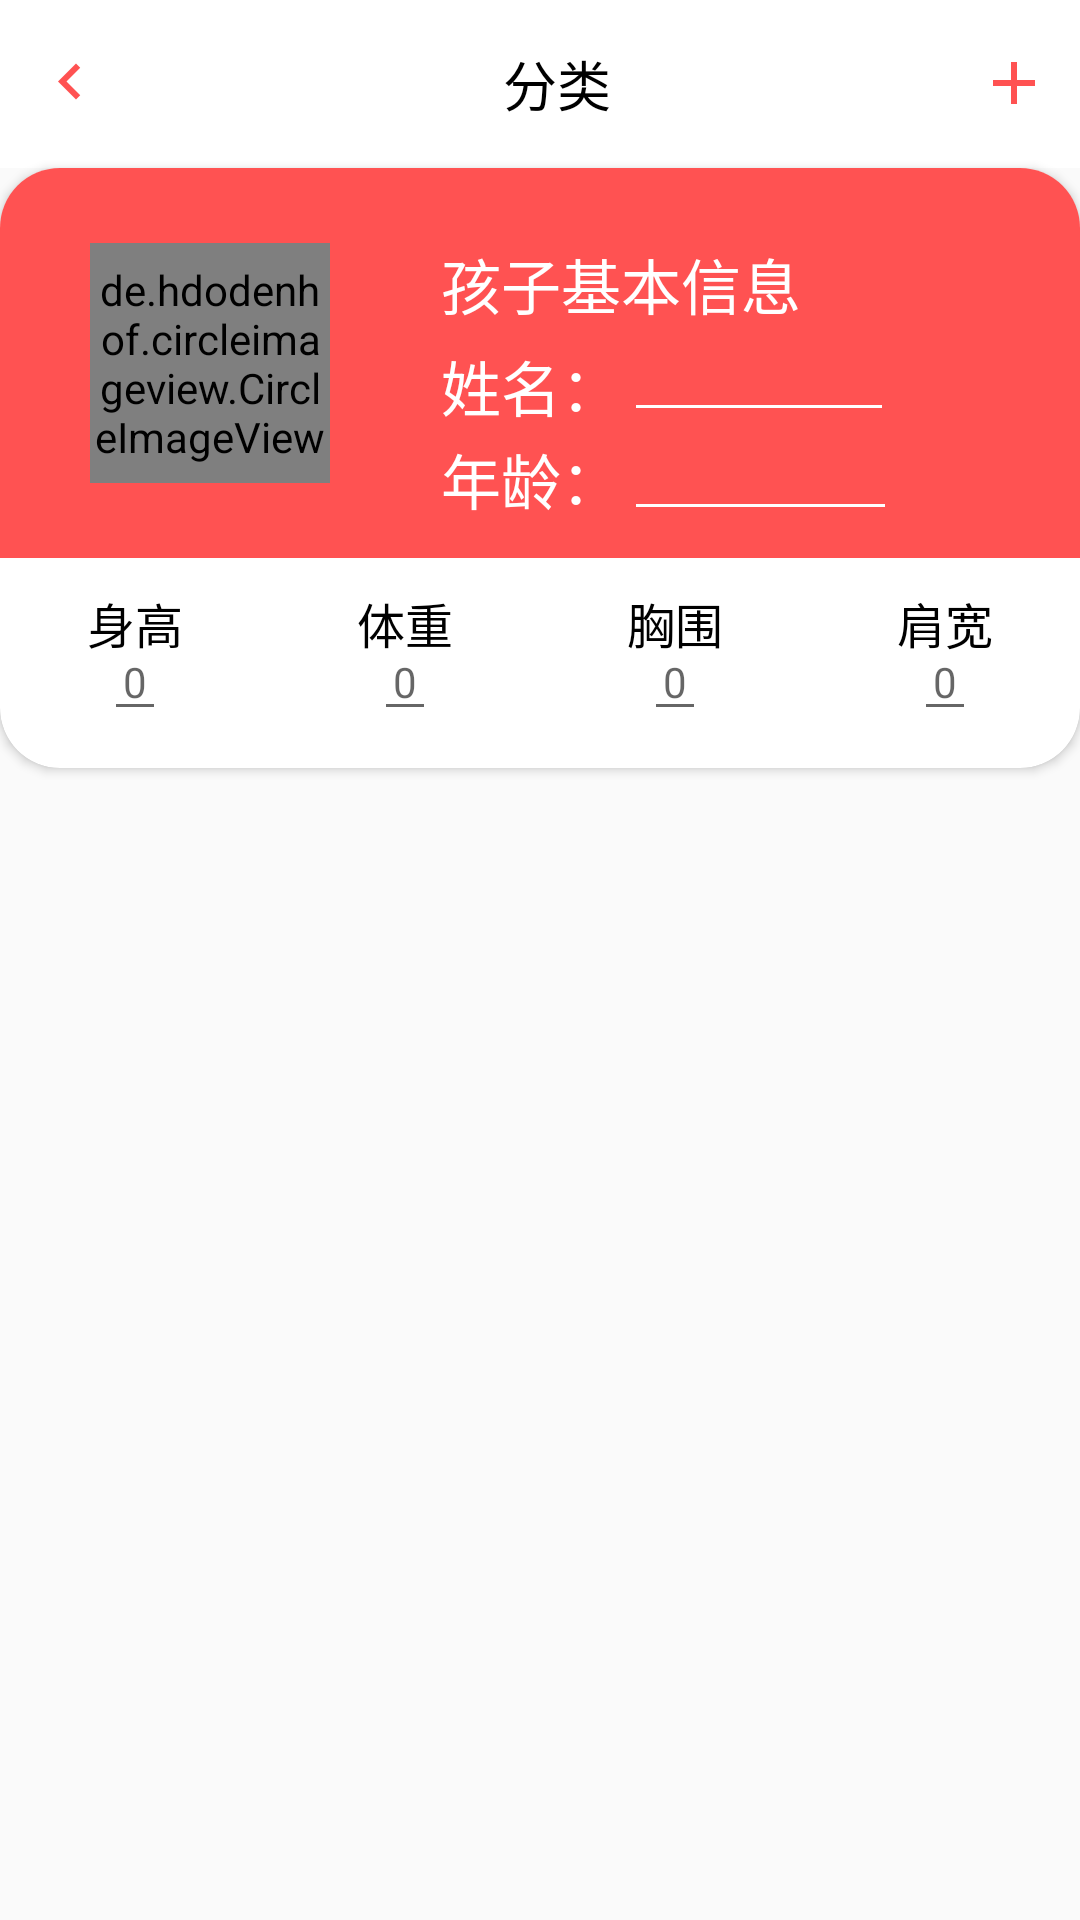

Where icons sit on this 1080*1920 app screen, as (x1, y1, x2, y2):
add: (993, 62, 1035, 104)
back: (58, 64, 80, 99)
